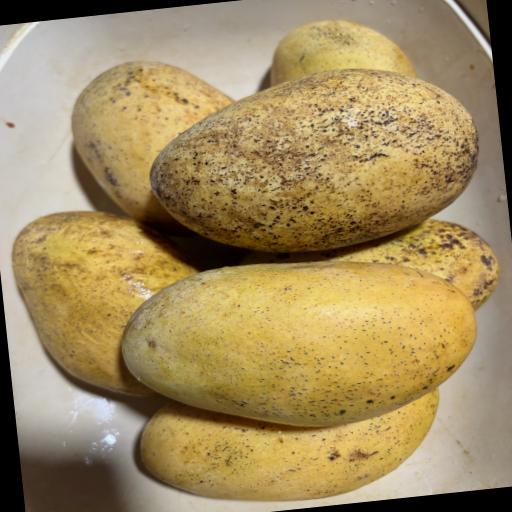fruit: (90, 214, 492, 454), (133, 31, 500, 280), (107, 351, 499, 512), (0, 184, 219, 413), (301, 170, 512, 338), (64, 38, 252, 220), (247, 0, 442, 134)
